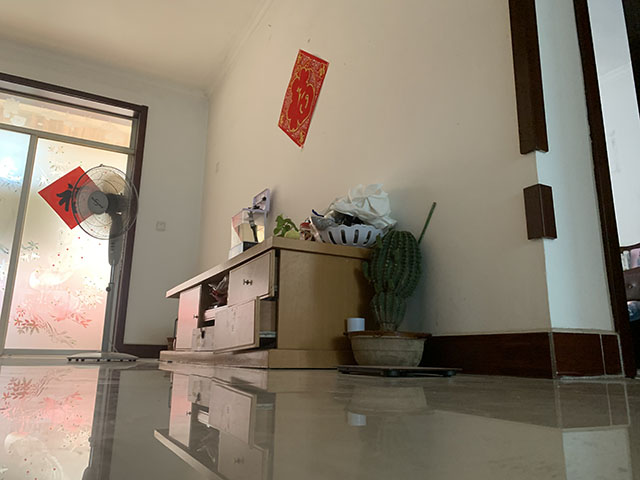cabinet: (158, 236, 379, 370)
